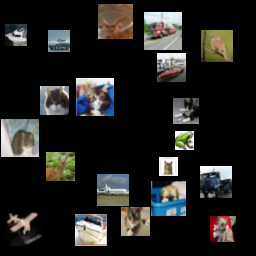airplane: (5, 208, 43, 246), (97, 174, 129, 206)
automobile: (48, 30, 70, 52)
bird: (201, 30, 233, 62)
cat: (76, 78, 114, 116), (1, 119, 39, 157), (40, 86, 69, 115), (121, 207, 150, 236), (173, 98, 199, 124), (159, 157, 178, 176)
deer: (98, 4, 133, 39), (46, 152, 75, 181)
dog: (151, 181, 186, 216), (210, 216, 236, 242)
frog: (175, 131, 194, 150)
ship: (75, 214, 107, 246), (157, 53, 186, 82), (5, 24, 27, 46)
